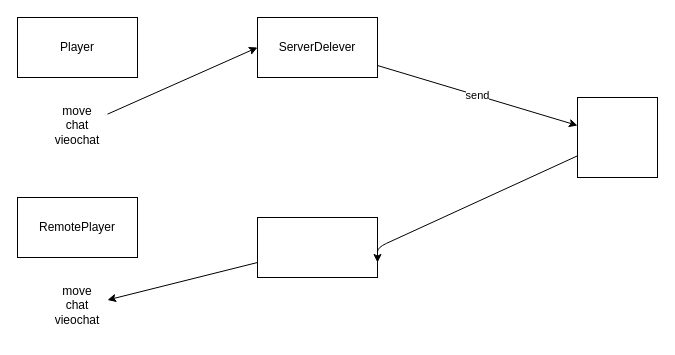
This 675x355 diagram has some shape labels left out. Each missing label, with the centre of its shape:
"Server" belongs at point (617, 137).
"ServierReceiver" belongs at point (317, 247).
